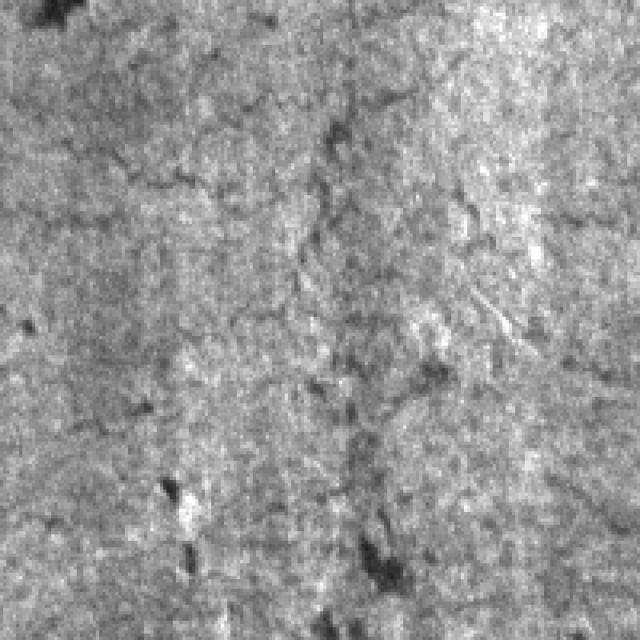crazing: (298, 198, 640, 393), (10, 70, 355, 234)
